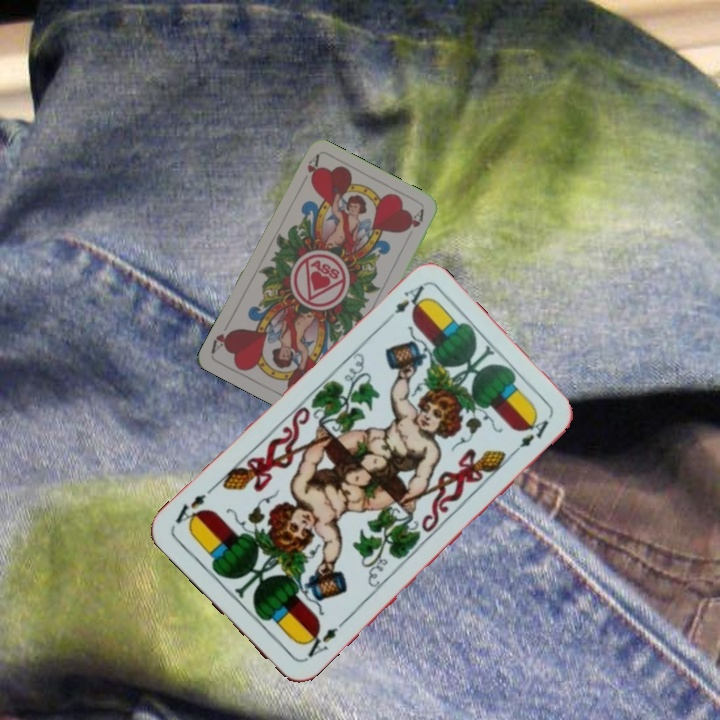EA: (379, 281, 430, 327), (298, 623, 341, 664)
HA: (303, 151, 322, 185)
